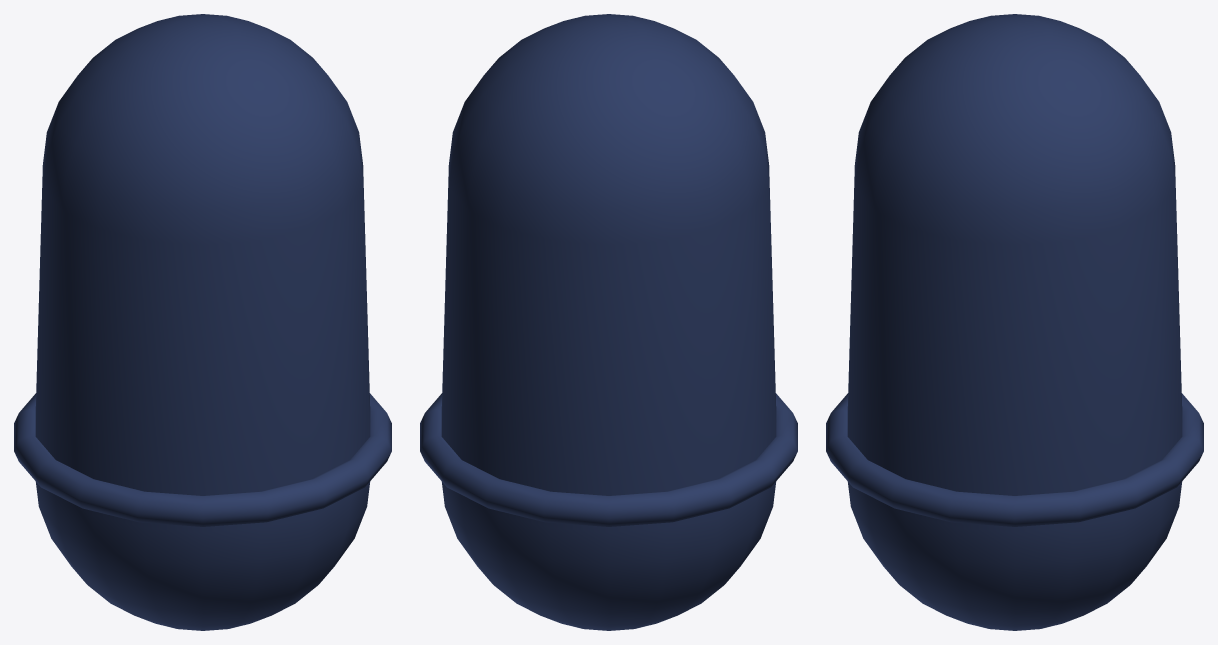
File: char_shin.glb
The picture shows the model from 3 angles, left to right: view 1: azimuth 30°, elevation 25°; view 2: azimuth 150°, elevation 25°; view 3: azimuth 270°, elevation 25°; orthographic projection.
Visible parts, largest first — view 1: char_shin; view 2: char_shin; view 3: char_shin.
Boxes of the visible parts, x1,y1,x2,y2 form: char_shin: (14,14,391,630); char_shin: (420,14,797,630); char_shin: (826,14,1203,630).
Size of the model in its own units: 0.184 by 0.31 by 0.1812.
